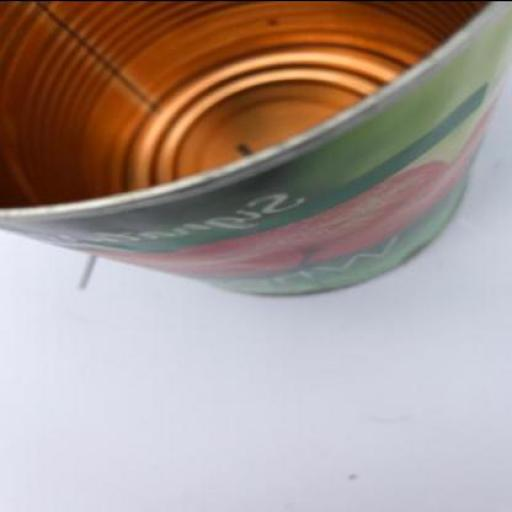metal: (0, 1, 511, 294)
